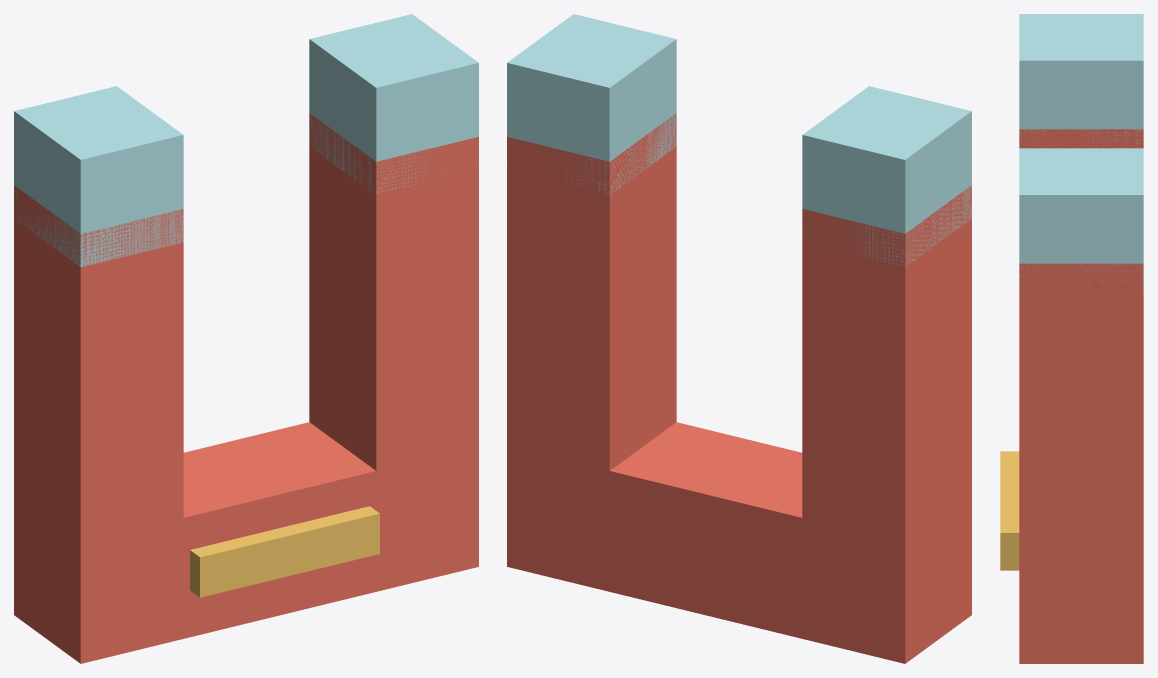
File: magnet.glb
3 renders of one model, left to right at view 1: azimuth 30°, elevation 25°; view 2: azimuth 150°, elevation 25°; view 3: azimuth 270°, elevation 25°, orthographic. The views are drawn at different scales.
Visible parts, largest first — view 1: Prop_magnet; view 2: Prop_magnet; view 3: Prop_magnet.
Part boxes in pixels (<box>): Prop_magnet: <box>14,14,478,663</box>; Prop_magnet: <box>507,14,971,663</box>; Prop_magnet: <box>1000,14,1143,663</box>.
Bounding box in the file's own units: 0.62 × 0.75 × 0.2075.
